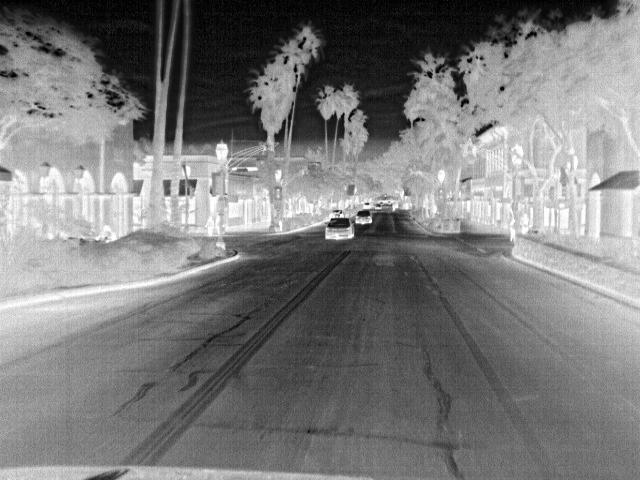car: (324, 216, 355, 240), (354, 207, 372, 225), (373, 202, 382, 211)
person: (203, 214, 215, 236), (520, 212, 532, 232)
